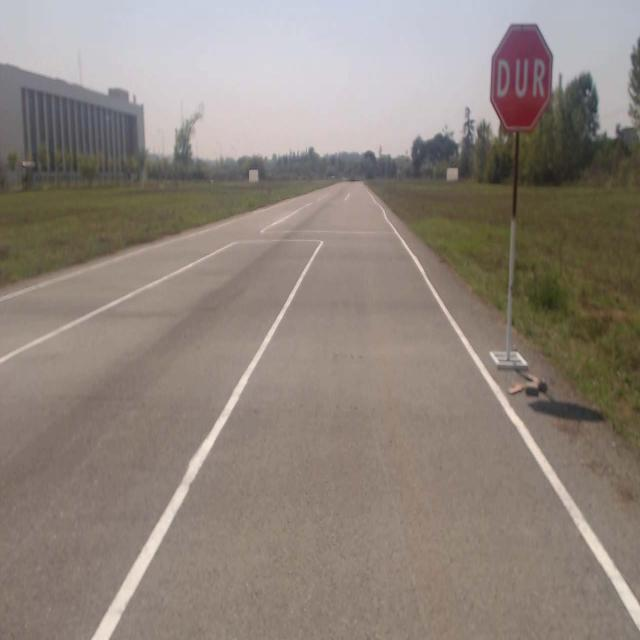dur: (490, 25, 553, 132)
